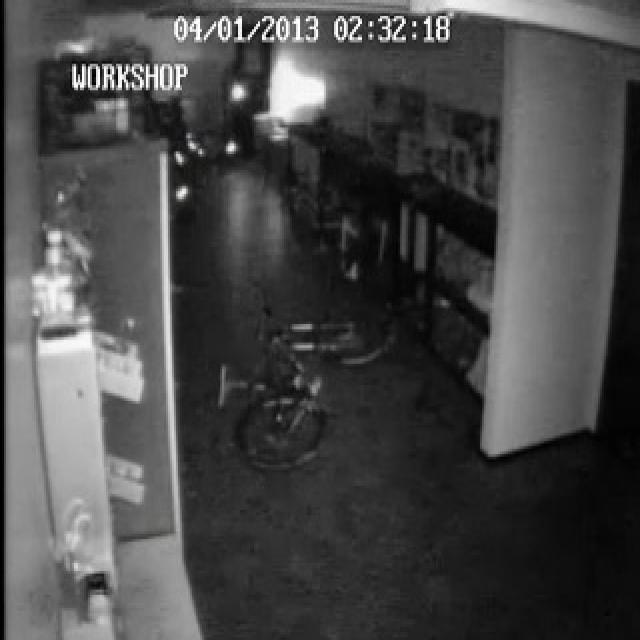burglary: (210, 301, 393, 476)
